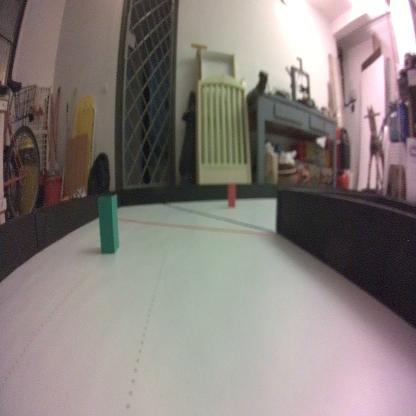green: (97, 192, 120, 260)
red: (227, 182, 236, 208)
